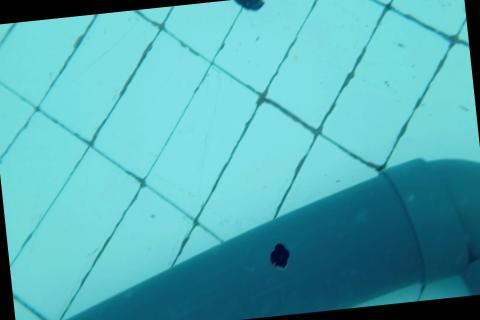kebocoran: (267, 240, 292, 271)
